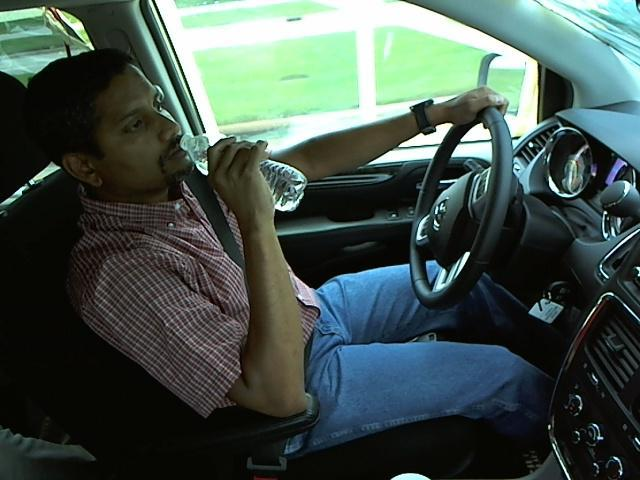Drinking: (61, 56, 305, 212)
